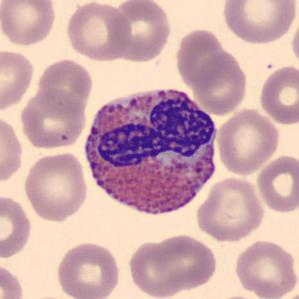Eosinophil: (78, 76, 225, 226)
RBC: (21, 150, 89, 223), (193, 176, 267, 243), (214, 106, 282, 177), (18, 88, 89, 151), (63, 0, 132, 62), (150, 232, 219, 293), (53, 239, 121, 299), (232, 238, 298, 299), (192, 49, 249, 116), (112, 1, 173, 63), (125, 238, 187, 298), (34, 57, 94, 118), (220, 0, 299, 45), (0, 0, 58, 48), (254, 153, 298, 214), (257, 64, 298, 126), (0, 46, 36, 112), (0, 194, 33, 260), (0, 111, 24, 187), (0, 261, 25, 299), (289, 12, 299, 70), (210, 294, 266, 299), (20, 294, 75, 299), (277, 288, 299, 298)
